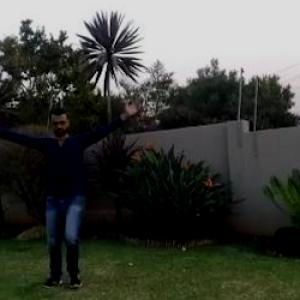takeoff: (1, 102, 148, 287)
